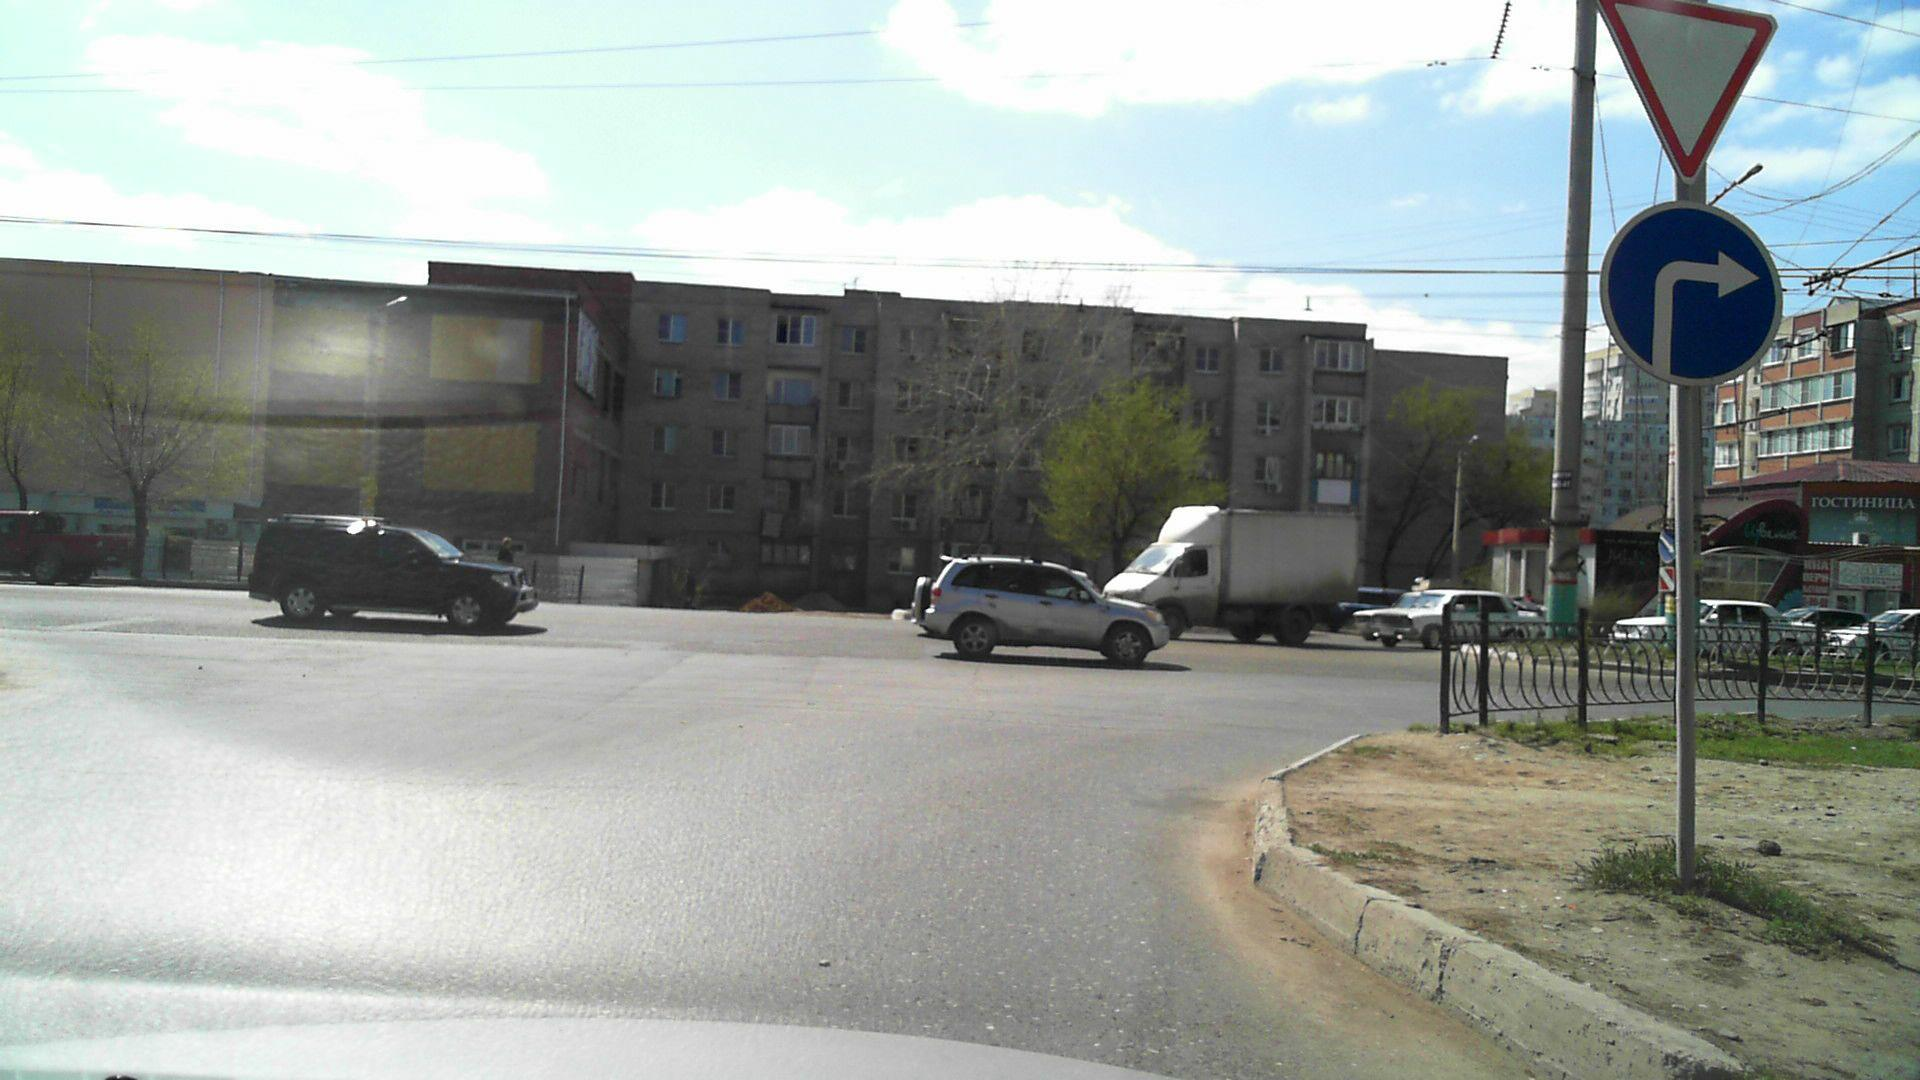2_4: (1594, 0, 1786, 182)
4_1_2: (1599, 198, 1786, 391)
